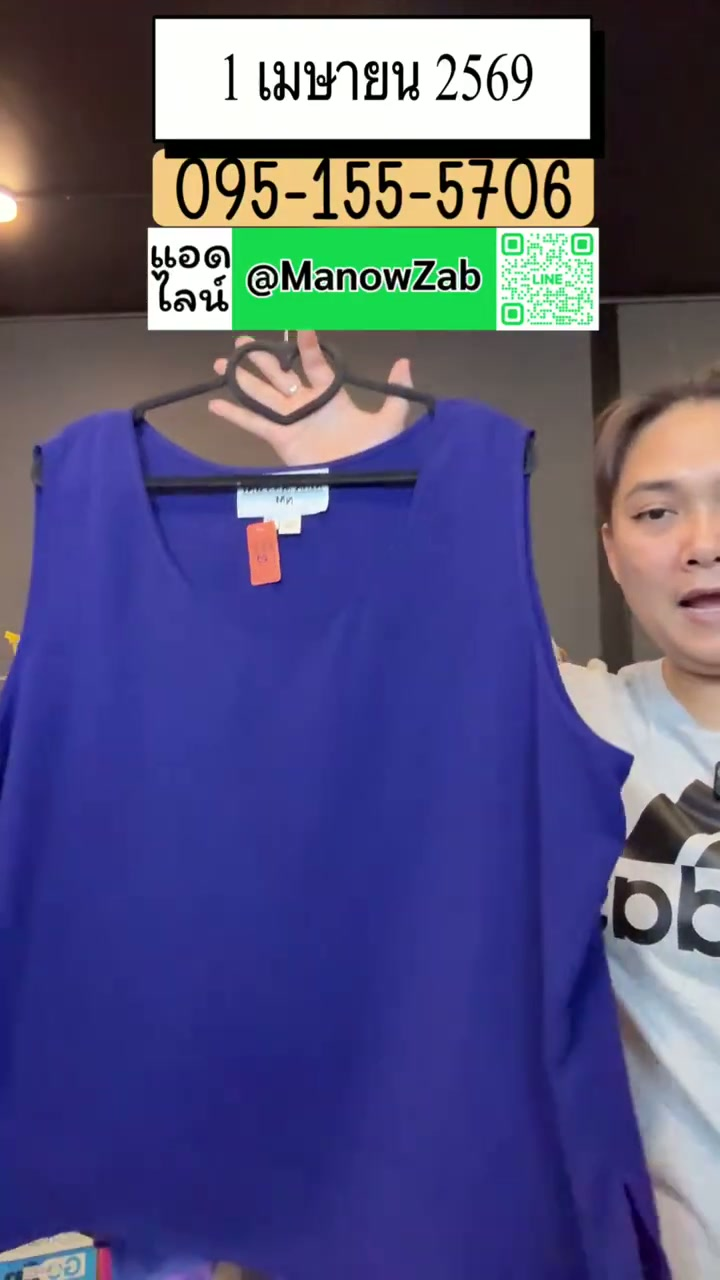display_shirt: (0, 400, 666, 1279)
